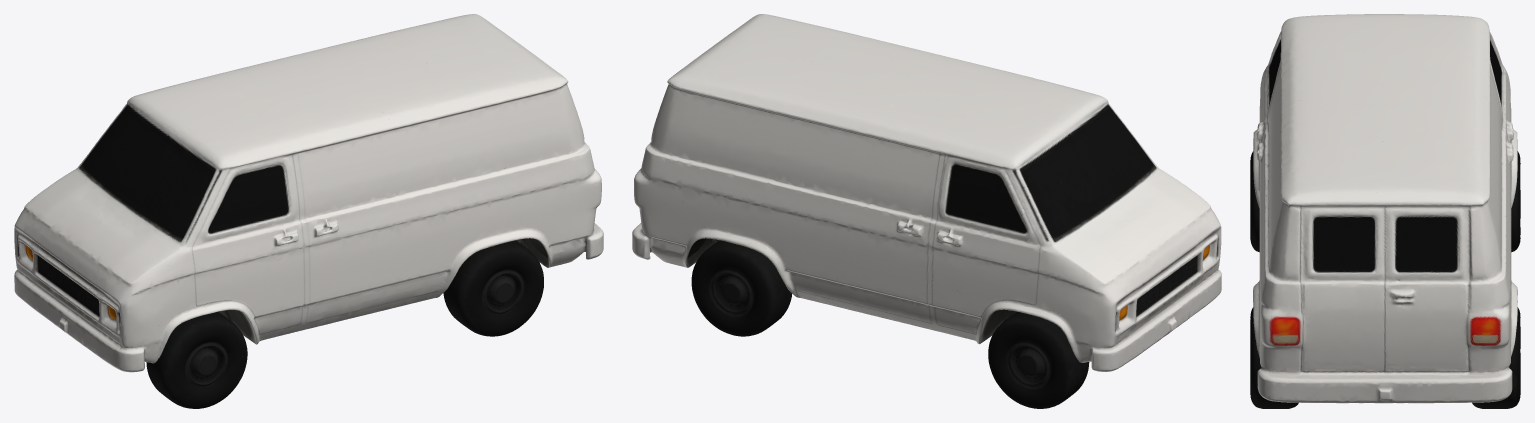
File: cars_goat_van.glb
3 renders of one model, left to right at view 1: azimuth 30°, elevation 25°; view 2: azimuth 150°, elevation 25°; view 3: azimuth 270°, elevation 25°, orthographic. The views are drawn at different scales.
Size of the model in its own units: 1.9 by 0.8633 by 0.8322.
Materials: 1 (1 with a texture image).
